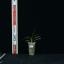leaf: (31, 28, 37, 38), (32, 34, 41, 40), (32, 36, 41, 41), (22, 37, 31, 41), (33, 38, 41, 41), (24, 38, 31, 40), (25, 40, 30, 41), (28, 41, 31, 42)
